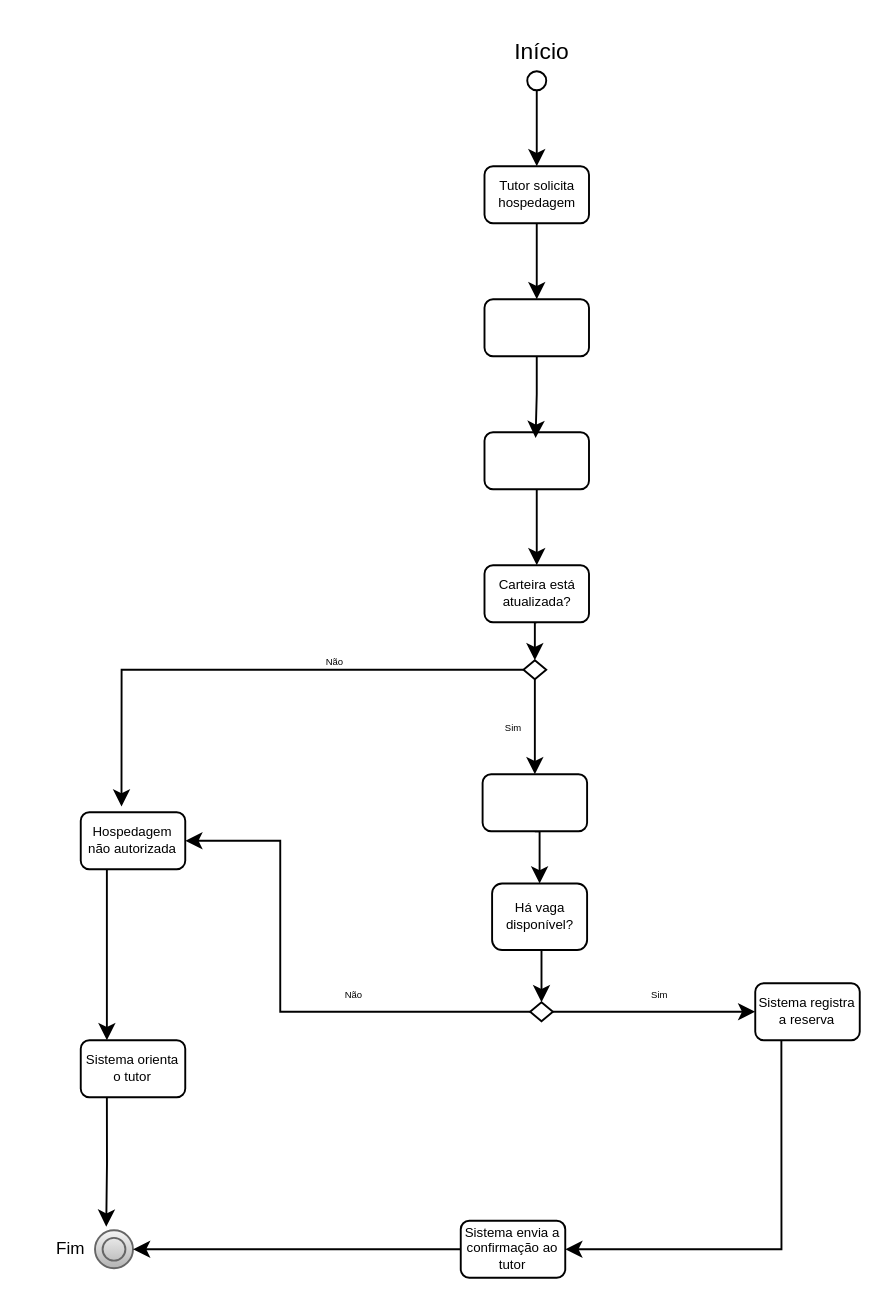
The diagram is 893 pixels wide and 1311 high, and some of its shapes have lost their labels. Here are the shapes that lost their labels. From the top down, the centre of each, then its label:
At point 536,326: "Sistema solicita carteira de vacinação".
At point 536,459: "Sistema verifica dados".
At point 534,801: "Sistema verifica disponibilidade de vagas".
